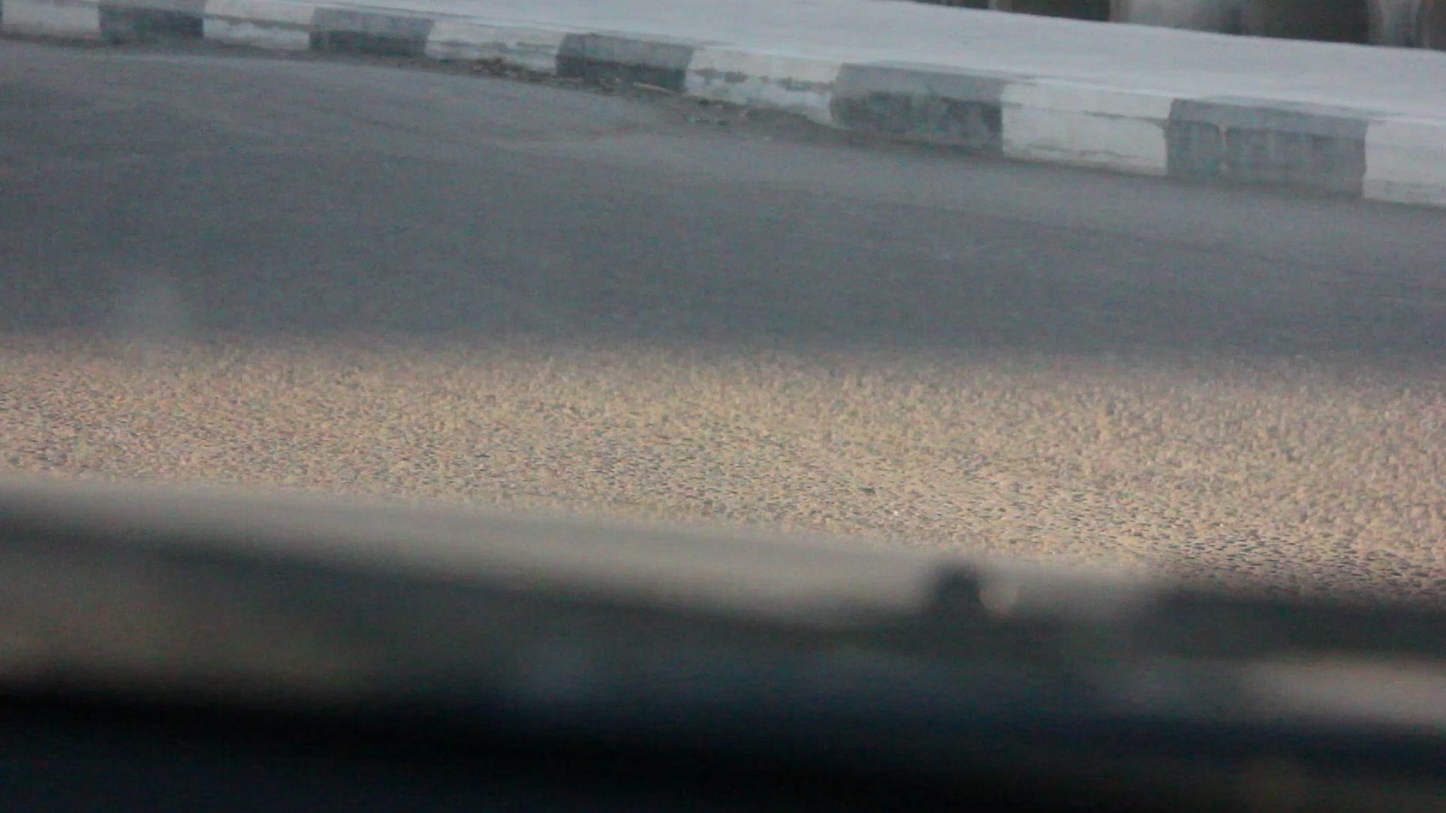Bump: (0, 47, 781, 171)
